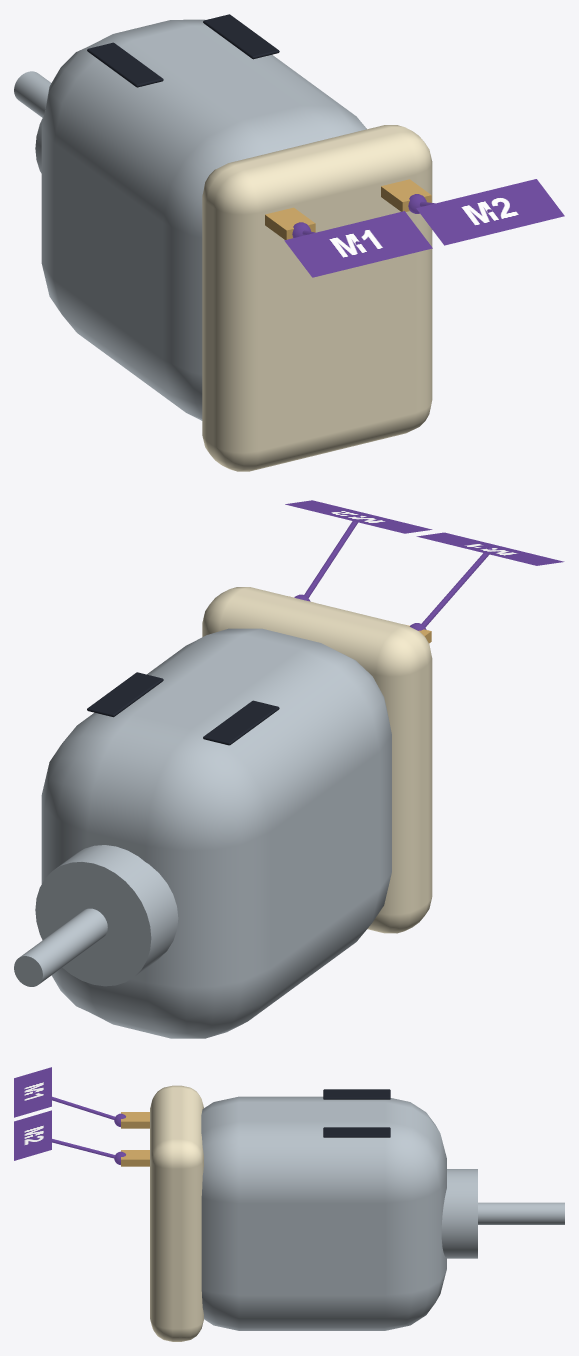
3 renders of one model, top to bottom at view 1: azimuth 30°, elevation 25°; view 2: azimuth 150°, elevation 25°; view 3: azimuth 270°, elevation 25°, orthographic. The views are drawn at different scales.
Parts seen in each view (by area): view 1: dc, M2, M1, Terminal labels; view 2: dc, M1, M2, Terminal labels; view 3: dc, M1, M2, Terminal labels.
Part boxes in pixels (x1,y1,x2,y2): dc: (14,14,432,471); M2: (416,179,564,245); M1: (284,211,432,277); Terminal labels: (292,194,492,244); dc: (14,587,432,1038); M1: (416,532,564,565); M2: (285,500,432,533); Terminal labels: (294,515,492,630); dc: (121,1085,564,1341); M1: (14,1067,51,1117); M2: (14,1110,51,1160); Terminal labels: (33,1090,125,1164).
Bounding box in the file's own units: 0.0174 × 0.0203 × 0.049.
8 materials, 2 textured.
